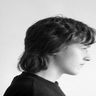ear: (44, 37, 63, 61)
